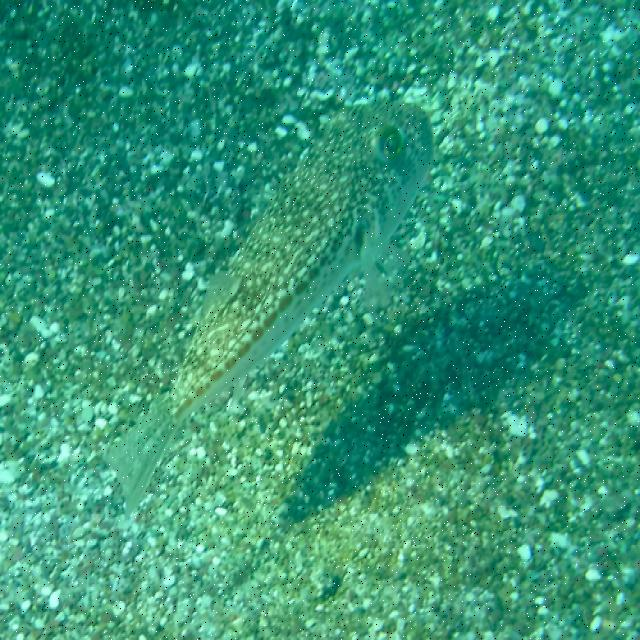Balik: (108, 103, 432, 512)
